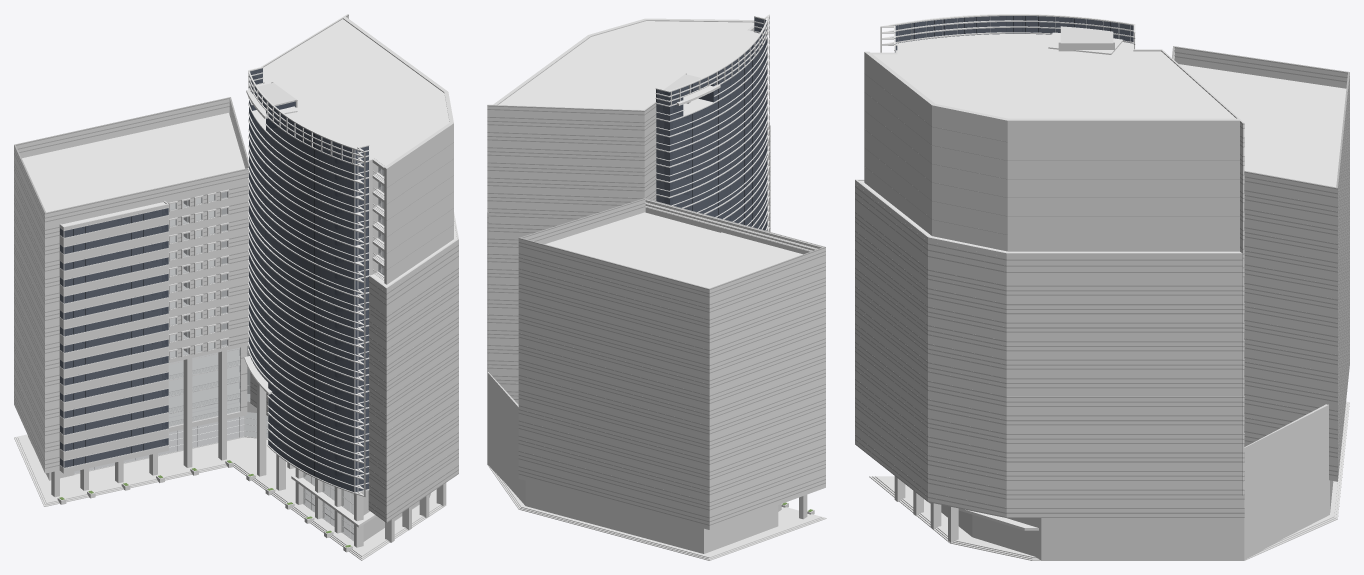
File: building.glb
3 views of the same model, side by side, from view 1: azimuth 30°, elevation 25°; view 2: azimuth 150°, elevation 25°; view 3: azimuth 270°, elevation 25° (orthographic). The views are drawn at different scales.
Visible parts, largest first — view 1: 3DSMeshMatrix (×13); view 2: 3DSMeshMatrix (×10); view 3: 3DSMeshMatrix (×10).
Boxes of the visible parts, x1,y1,x2,y2 form: 3DSMeshMatrix (×13): (14,14,458,560); 3DSMeshMatrix (×10): (487,14,826,560); 3DSMeshMatrix (×10): (855,14,1349,560).
Size of what is drawn, in the model's own units: 74851 by 85960 by 84682.
